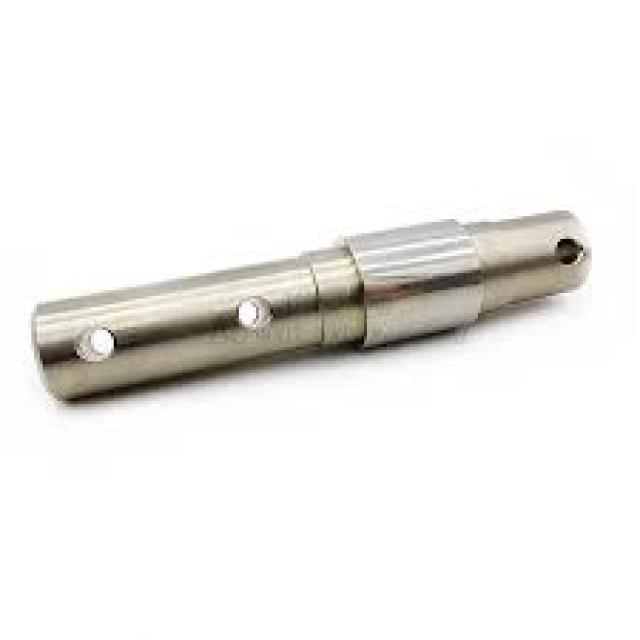Turning: (24, 178, 609, 437)
